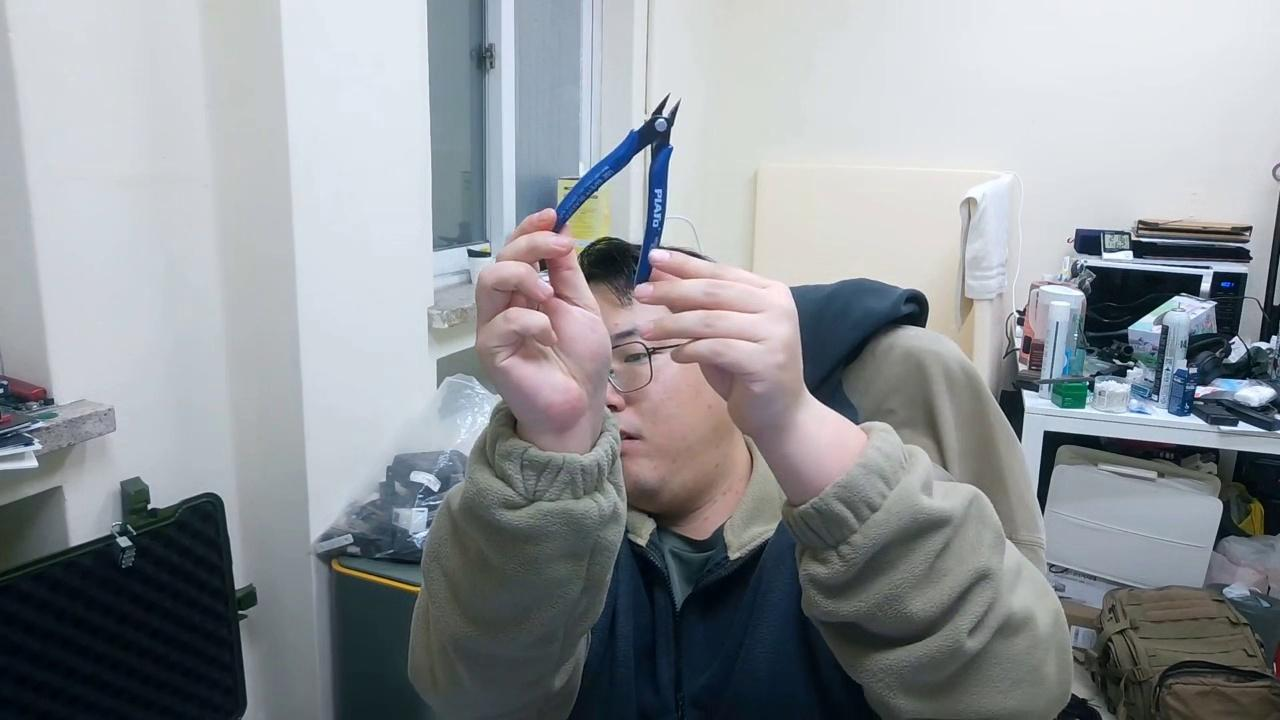blue_pliers: (550, 91, 683, 288)
